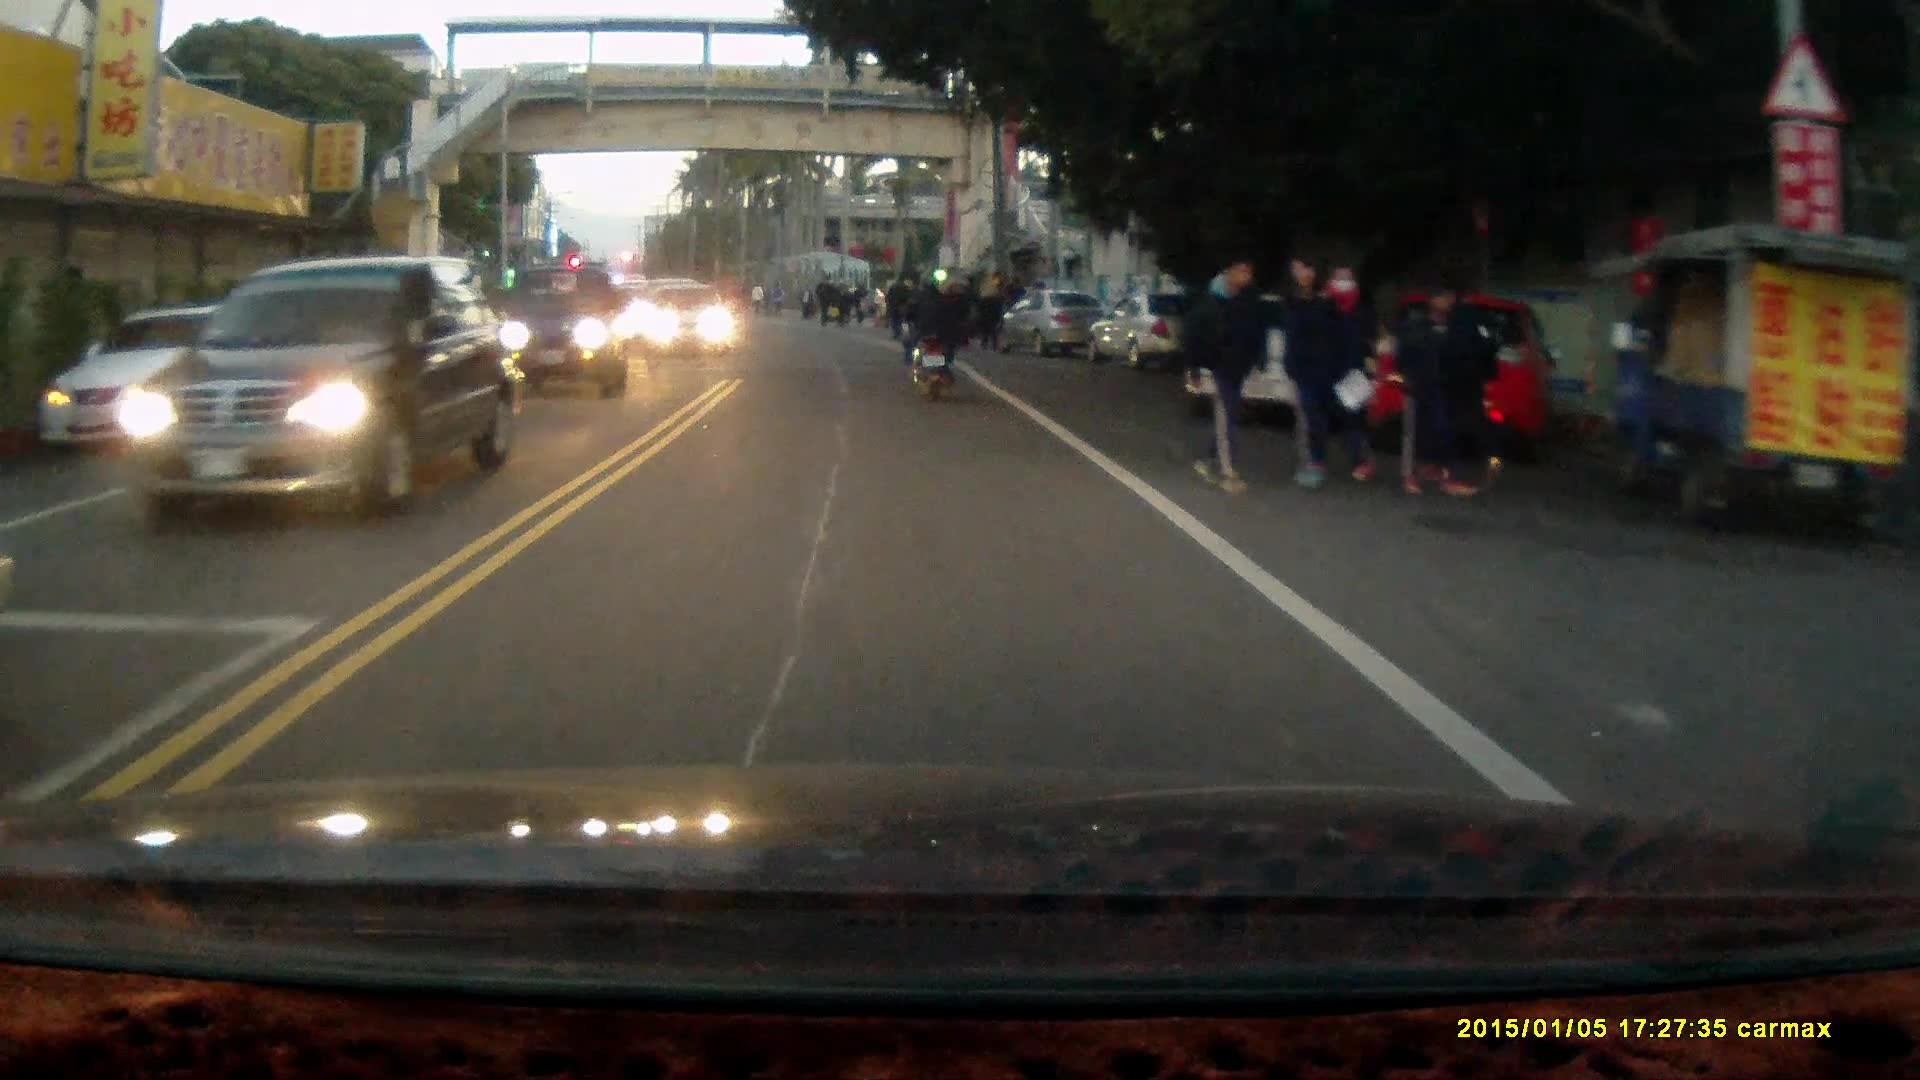pedestrian: (1180, 245, 1270, 497), (1396, 282, 1479, 502), (1278, 250, 1352, 497), (1425, 272, 1504, 497), (1306, 258, 1381, 485), (955, 270, 984, 353), (976, 283, 1005, 350), (944, 276, 968, 350)
rider: (892, 269, 961, 404)
vehicle: (132, 253, 519, 531), (1332, 288, 1554, 466), (1179, 284, 1399, 429), (481, 267, 631, 400), (1090, 289, 1207, 370), (996, 291, 1114, 358), (646, 286, 740, 361)
